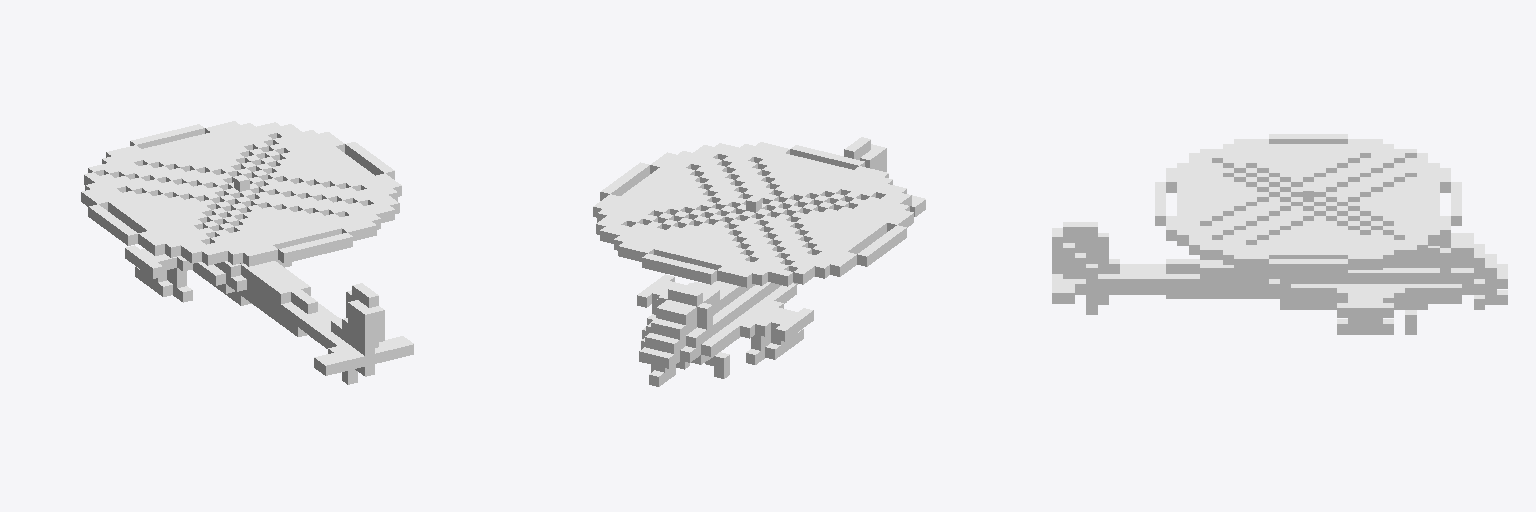
Rendered from helicopter.obj.
3 renders of one model, left to right at view 1: azimuth 30°, elevation 25°; view 2: azimuth 150°, elevation 25°; view 3: azimuth 270°, elevation 25°, orthographic.
Visible parts, largest first — view 1: object 1; view 2: object 1; view 3: object 1.
Part boxes in pixels (x1,y1,x2,y2): object 1: (81,121,413,384); object 1: (593,137,925,386); object 1: (1052,134,1507,334).
Size of the model in its own units: 2.7 by 1.3 by 4.